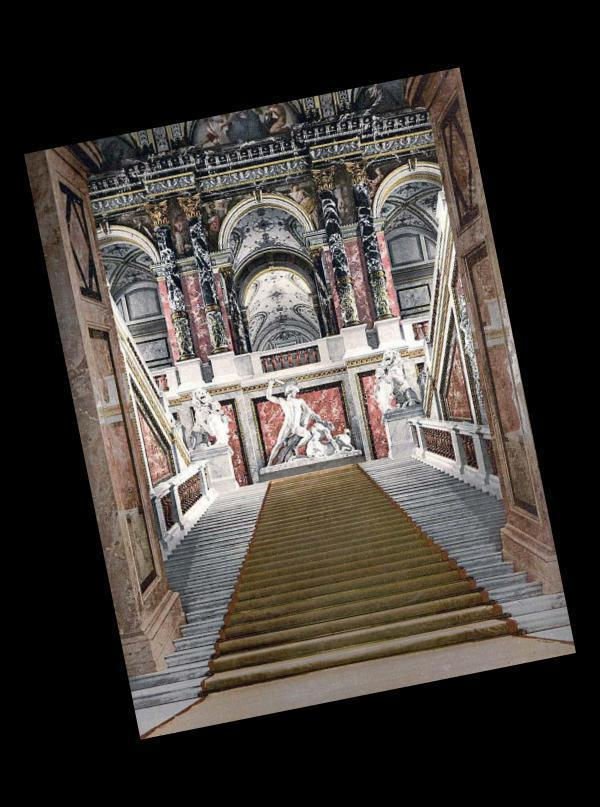Escaleras: (110, 430, 565, 707)
